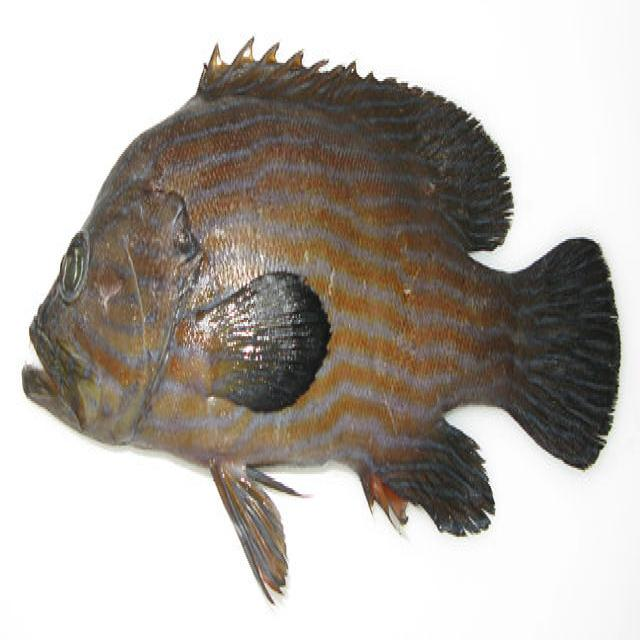ikan: (21, 32, 621, 606)
